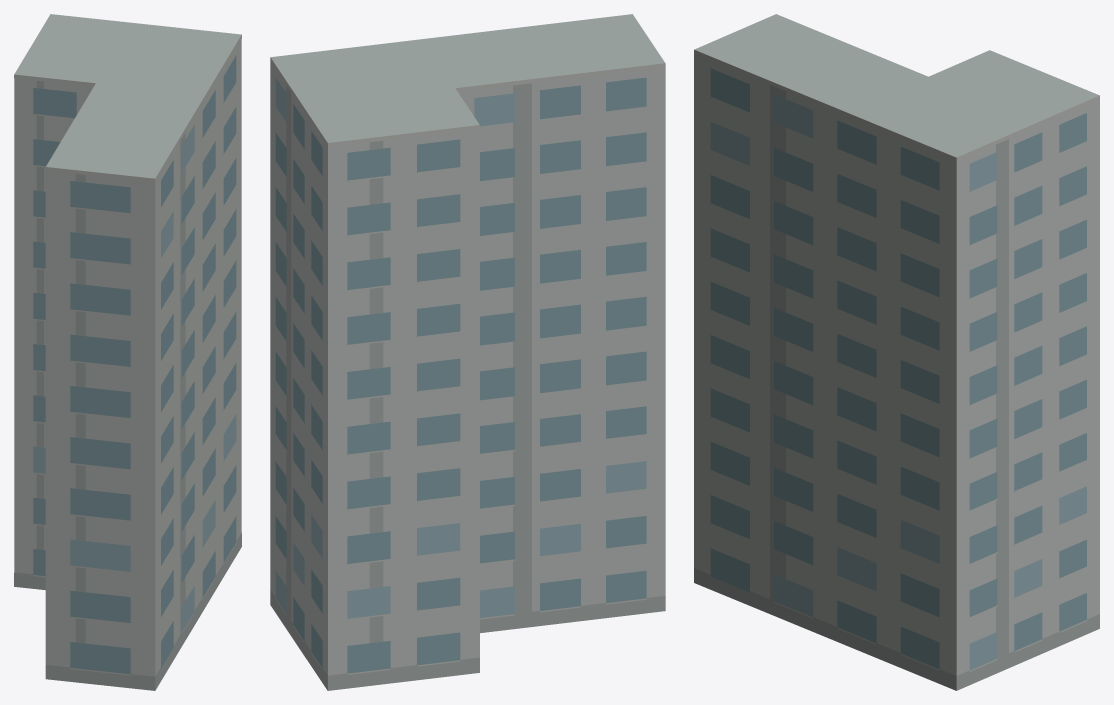
The model's file is residential-18c4e27a-51d9-46f3-b27e-8b67ece3d1f9.glb.
3 views of the same model, side by side, from view 1: azimuth 30°, elevation 25°; view 2: azimuth 150°, elevation 25°; view 3: azimuth 270°, elevation 25° (orthographic). The views are drawn at different scales.
Parts seen in each view (by area): view 1: residential-18c4e27a-51d9-46f3-b27e-8b67ece3d1f9.tmp; view 2: residential-18c4e27a-51d9-46f3-b27e-8b67ece3d1f9.tmp; view 3: residential-18c4e27a-51d9-46f3-b27e-8b67ece3d1f9.tmp.
Boxes of the visible parts, x1,y1,x2,y2 form: residential-18c4e27a-51d9-46f3-b27e-8b67ece3d1f9.tmp: (14,14,241,690); residential-18c4e27a-51d9-46f3-b27e-8b67ece3d1f9.tmp: (270,14,665,690); residential-18c4e27a-51d9-46f3-b27e-8b67ece3d1f9.tmp: (694,14,1099,690).
Bounding box in the file's own units: 18.49 × 32 × 22.07.
